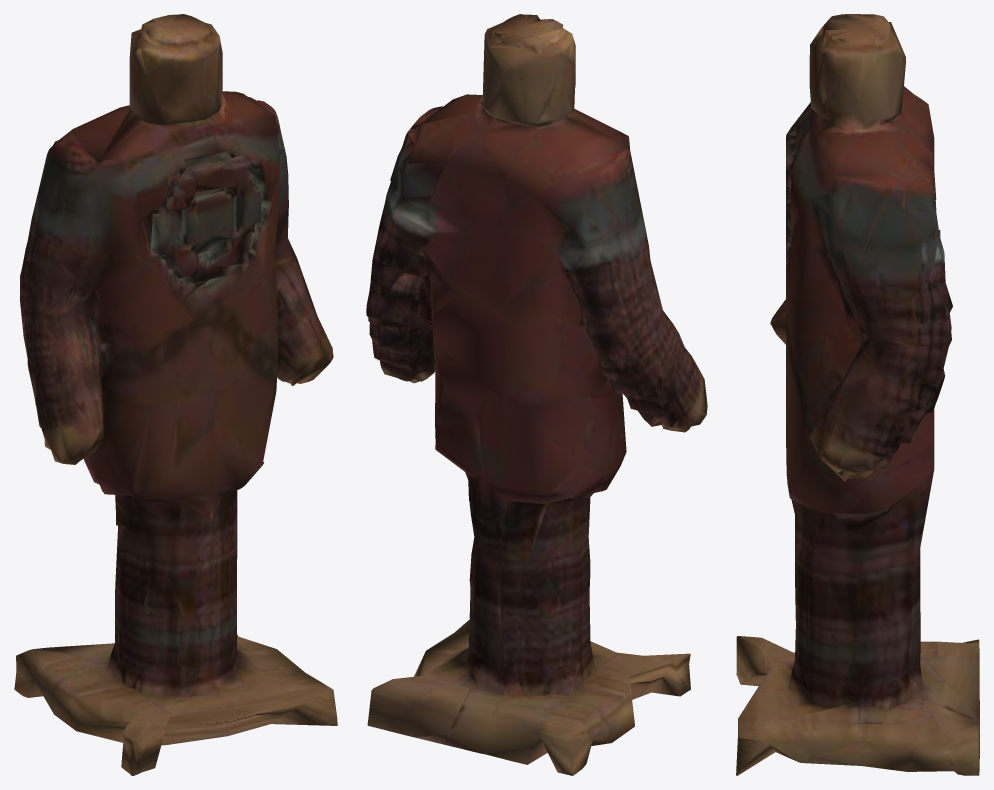
Rendered from training-dummy.glb.
The picture shows the model from 3 angles, left to right: view 1: azimuth 30°, elevation 25°; view 2: azimuth 150°, elevation 25°; view 3: azimuth 270°, elevation 25°; orthographic projection. The views are drawn at different scales.
Parts seen in each view (by area): view 1: Mesh_0.002; view 2: Mesh_0.002; view 3: Mesh_0.002.
Part boxes in pixels (x1=…): Mesh_0.002: x1=14, y1=14, x2=337, y2=775; Mesh_0.002: x1=366, y1=14, x2=707, y2=775; Mesh_0.002: x1=736, y1=14, x2=979, y2=775.
Bounding box in the file's own units: 0.7267 × 1.6 × 0.5062.
1 material, 1 textured.
